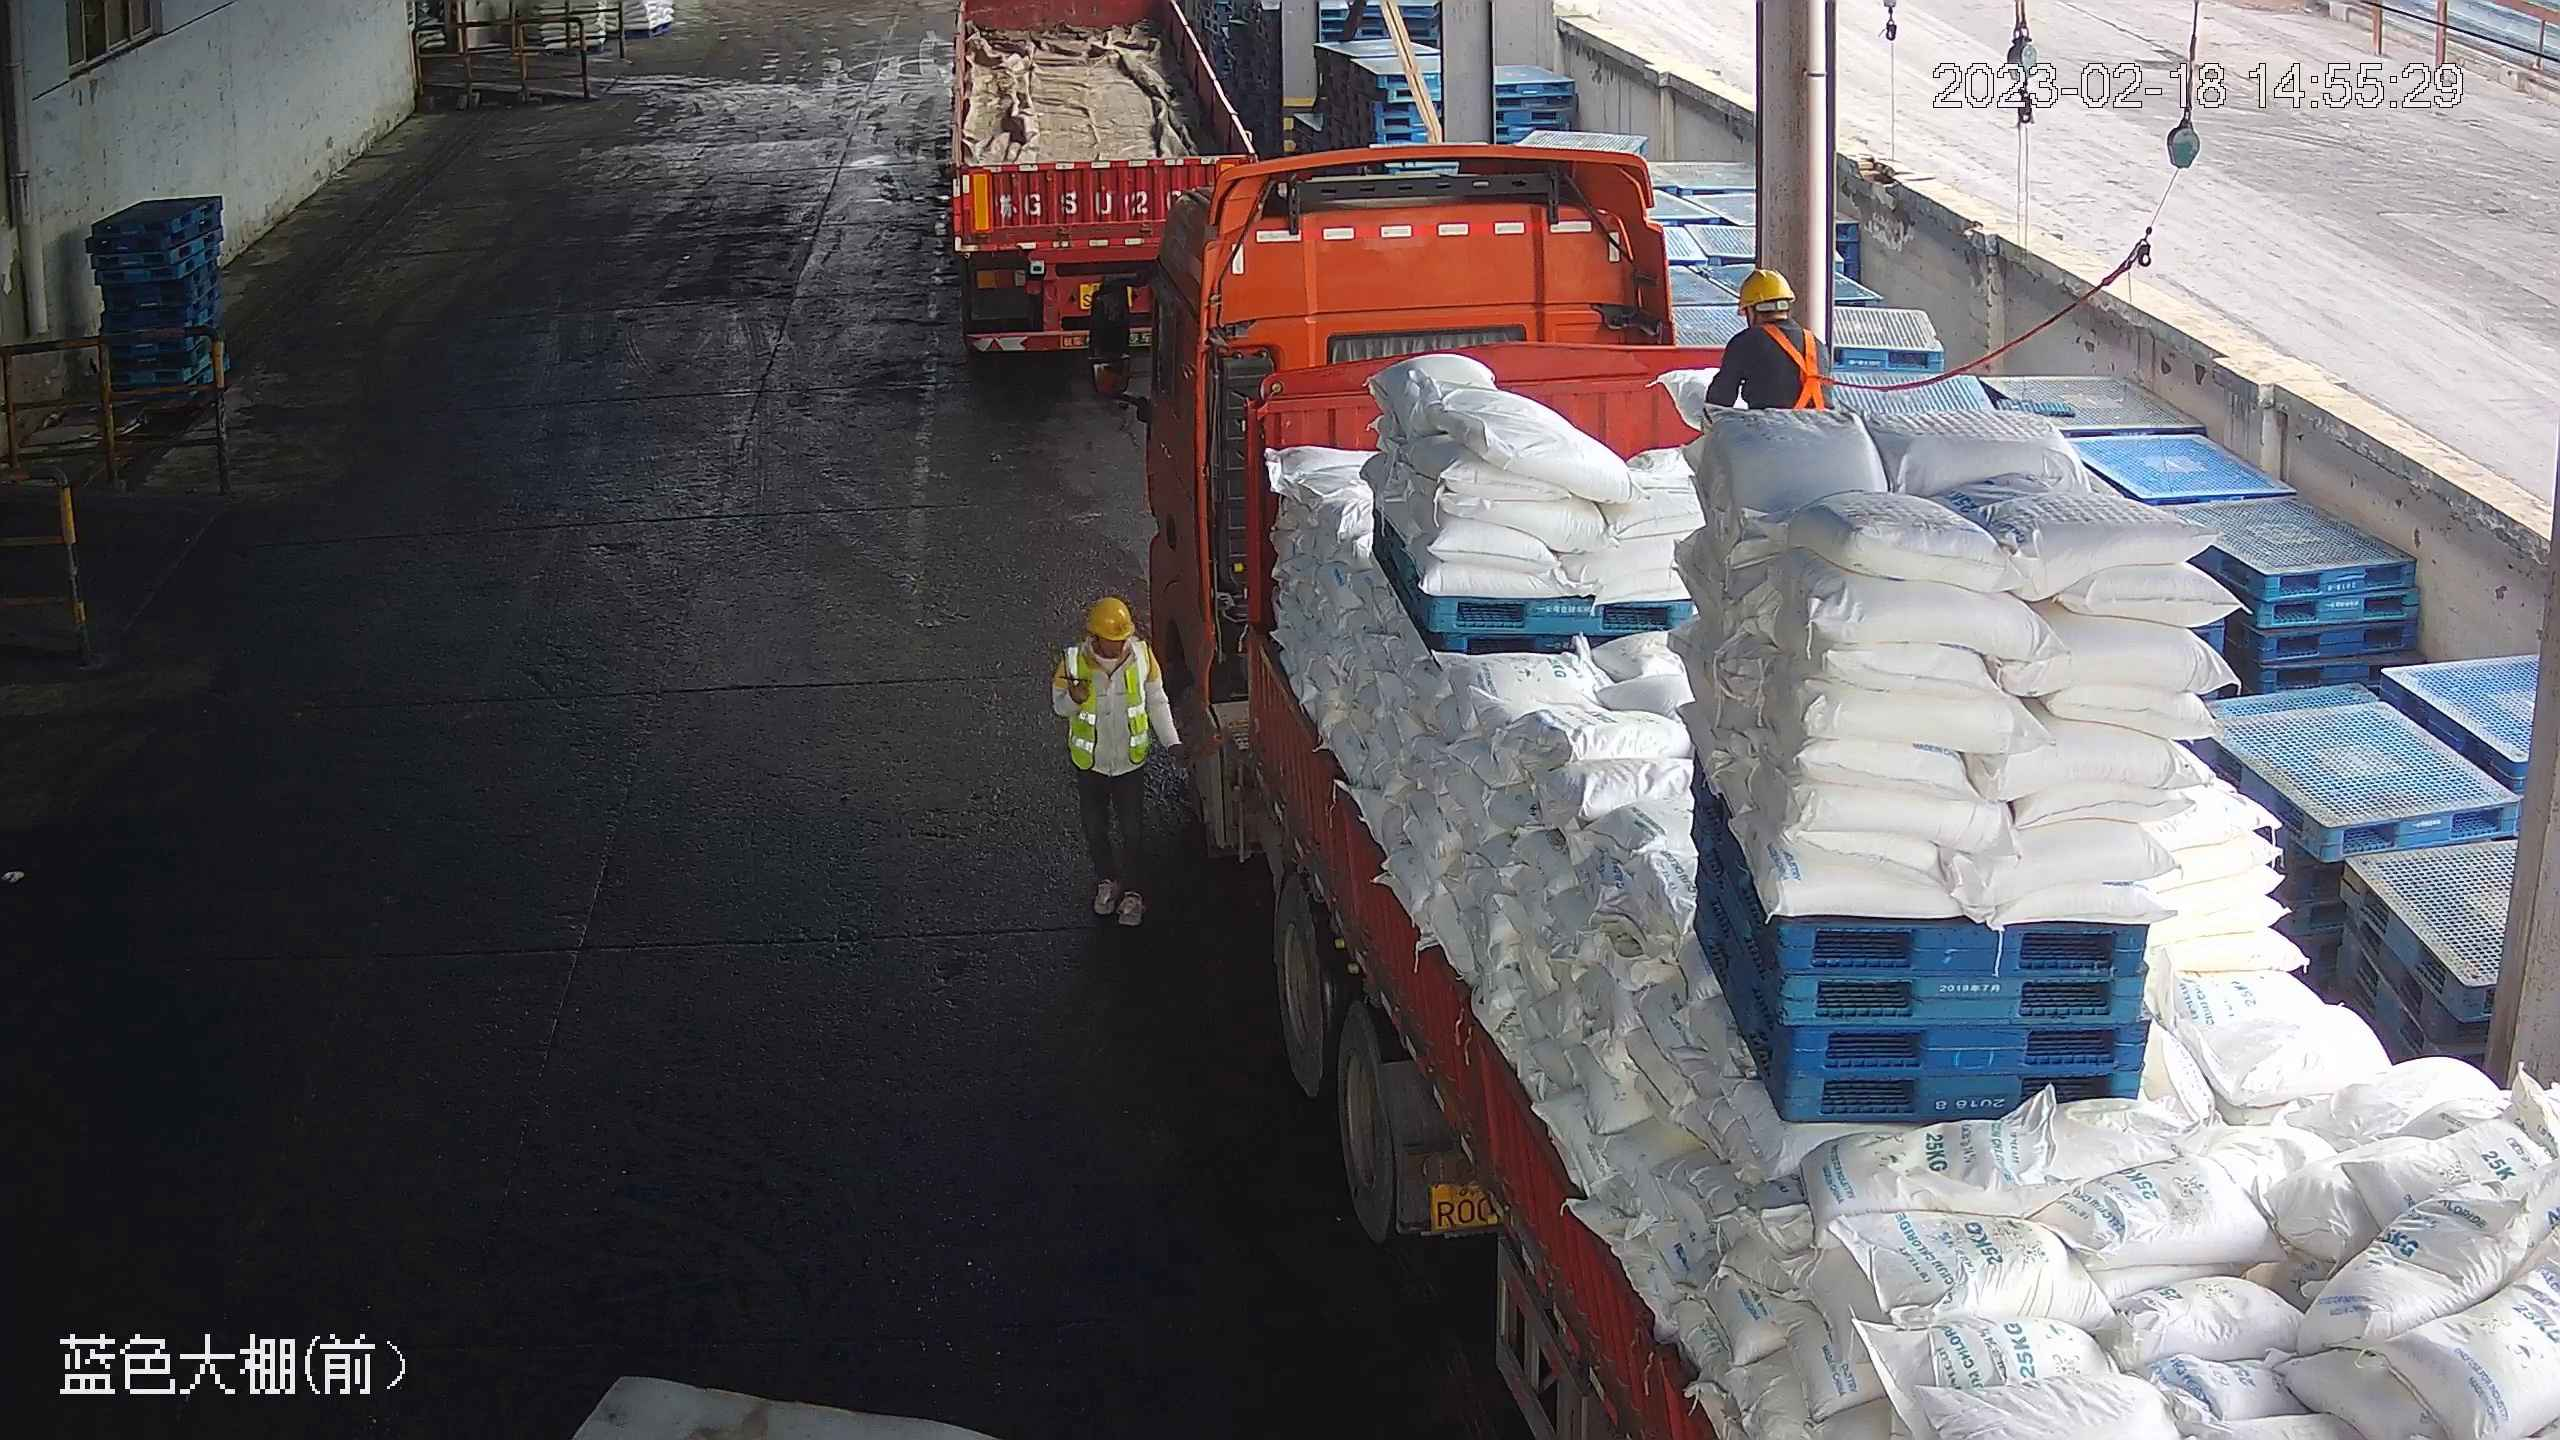belt: (1745, 321, 1837, 413)
head: (1718, 266, 1834, 367), (1051, 599, 1160, 699)
helmet: (1732, 266, 1792, 307), (1087, 597, 1133, 641)
people: (1050, 591, 1172, 924)
truck: (1090, 156, 2556, 1440), (918, 1, 1264, 367)
